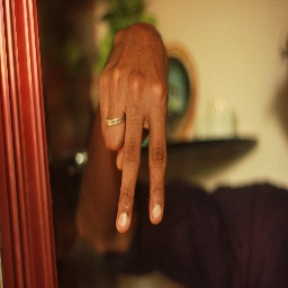Y: (78, 63, 179, 237)
